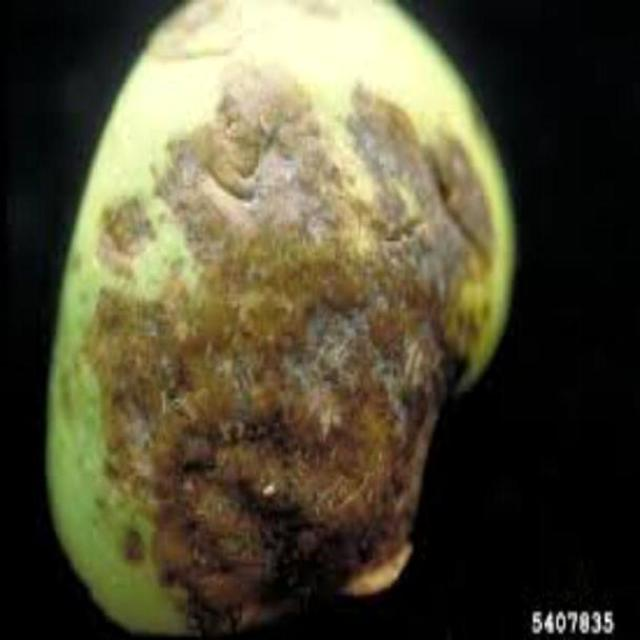BLOTCH: (27, 18, 543, 619)
